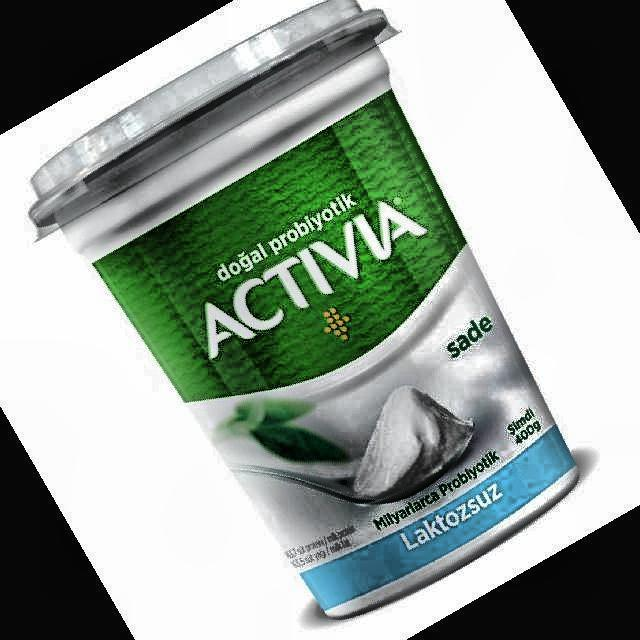plastic: (30, 0, 578, 616)
